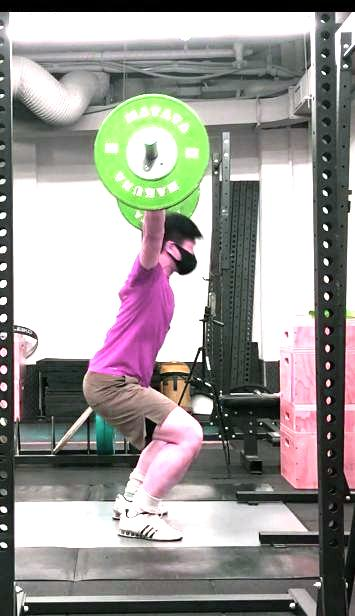Barbell: (140, 126, 161, 148)
